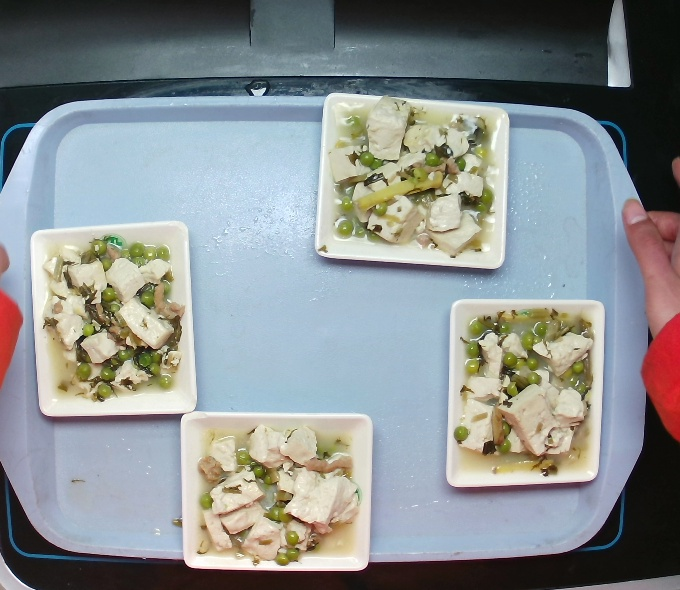wcq-CanDouDouFu: (321, 92, 502, 258), (29, 229, 191, 408), (452, 289, 600, 484), (199, 418, 361, 563)
